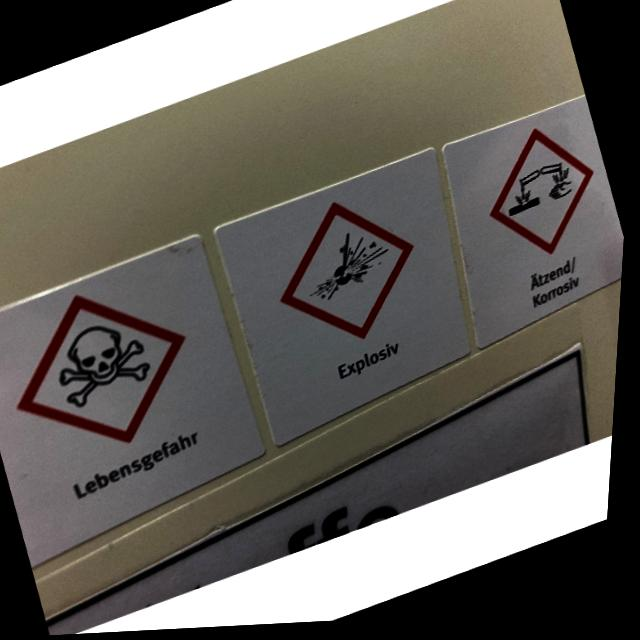acute toxicity: (49, 312, 161, 413)
corrosive: (468, 117, 619, 280)
explosive: (299, 224, 404, 312)
